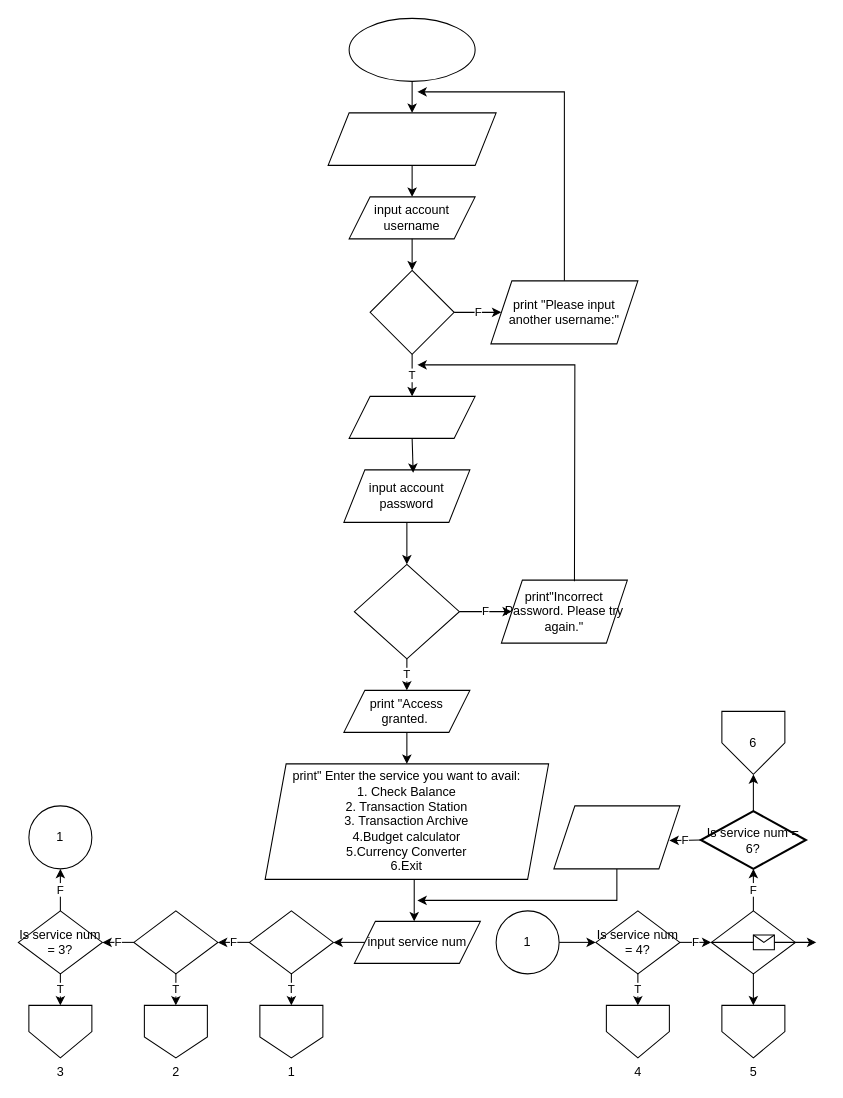
The diagram is 843 pixels wide and 1098 high, and some of its shapes have lost their labels. The box of each missing label's shape, as (x1, y1, x2, y2) in pixels:
Does password match with username?: (353, 563, 459, 659)
Does username exist?: (369, 269, 454, 354)
Is service num = 1?: (248, 910, 333, 974)
Is service num = 2?: (133, 910, 218, 974)
Is service num = 5?: (710, 910, 795, 974)
print "Enter account username:": (327, 112, 496, 165)
print"Enter password:": (348, 395, 475, 438)
print"Invalid service no. was input. Please input a valid one.": (553, 805, 680, 869)
Start: (348, 17, 475, 81)
